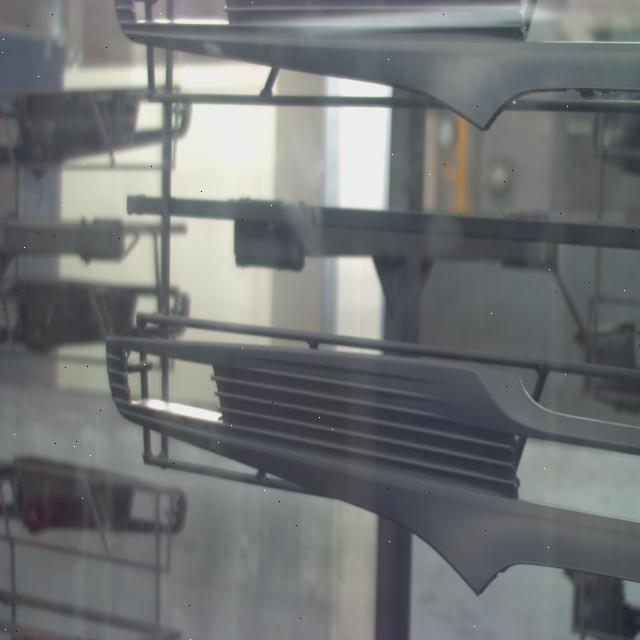Primered: (98, 304, 640, 603), (105, 5, 640, 142)
